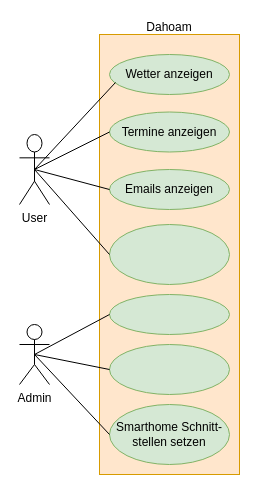
Some shapes in this 257 by 492 pixel diagram are drawn without their labels. The centre of each missing label's shape, as x and y in pixels:
"als Smarthomehub nutzen" goes at [169,254].
"Spiegel erst- konfiguration" goes at [169,369].
"User löschen" goes at [169,314].
